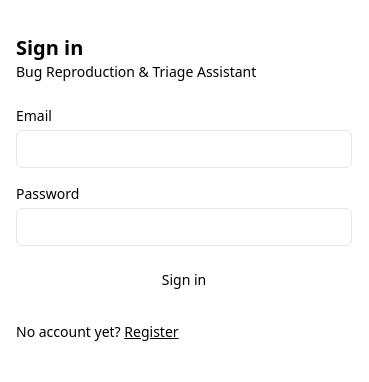
Login › shows inline errors for an invalid email and an empty password
This screenshot has width=369, height=382.
Type "not-an-email" into the field labelled "Email" at [184, 149], box [16,130,352,168]
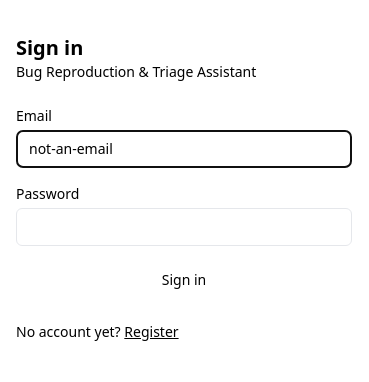
Click the button "Sign in" at [184, 280], box [16,262,352,298]
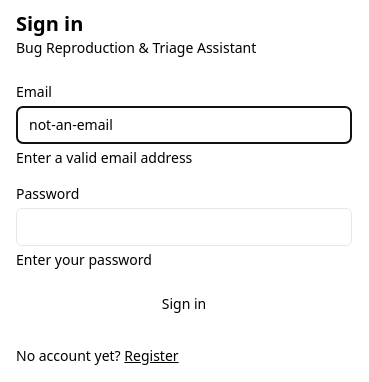
Check: the text "Enter a valid email address" is shown, box [16,148,192,167]
Check: the text "Enter your password" is shown, box [16,250,152,269]
